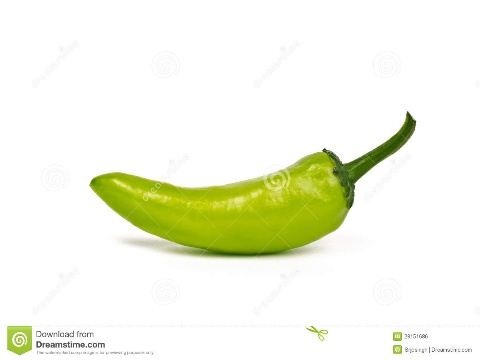Chilli: (83, 106, 440, 267)
